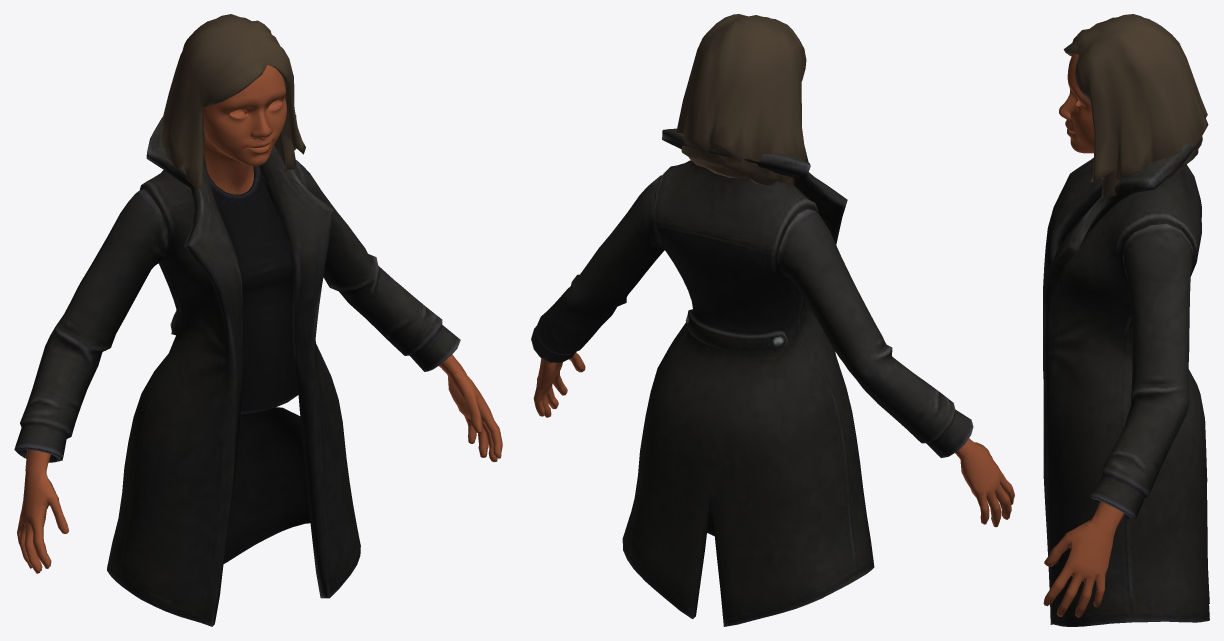
3 views of the same model, side by side, from view 1: azimuth 30°, elevation 25°; view 2: azimuth 150°, elevation 25°; view 3: azimuth 270°, elevation 25° (orthographic). The views are drawn at different scales.
Visible parts, largest first — view 1: Wolf3D_Outfit_Top.001, Wolf3D_Hair, Wolf3D_Head, Wolf3D_Body.001; view 2: Wolf3D_Outfit_Top.001, Wolf3D_Hair, Wolf3D_Body.001; view 3: Wolf3D_Outfit_Top.001, Wolf3D_Hair, Wolf3D_Body.001, Wolf3D_Head.
Part boxes in pixels (left/top/right/bottom): Wolf3D_Outfit_Top.001: left=14, top=115, right=460, bottom=626; Wolf3D_Hair: left=161, top=14, right=305, bottom=191; Wolf3D_Head: left=203, top=64, right=286, bottom=194; Wolf3D_Body.001: left=17, top=354, right=502, bottom=573; Wolf3D_Outfit_Top.001: left=531, top=128, right=973, bottom=626; Wolf3D_Hair: left=676, top=14, right=808, bottom=185; Wolf3D_Body.001: left=533, top=352, right=1014, bottom=527; Wolf3D_Outfit_Top.001: left=1043, top=140, right=1209, bottom=626; Wolf3D_Hair: left=1063, top=14, right=1208, bottom=198; Wolf3D_Body.001: left=1043, top=501, right=1124, bottom=617; Wolf3D_Head: left=1059, top=54, right=1094, bottom=153.
Size of the model in its own units: 9.48 by 11.16 by 2.85.
3 materials, 2 textured.
